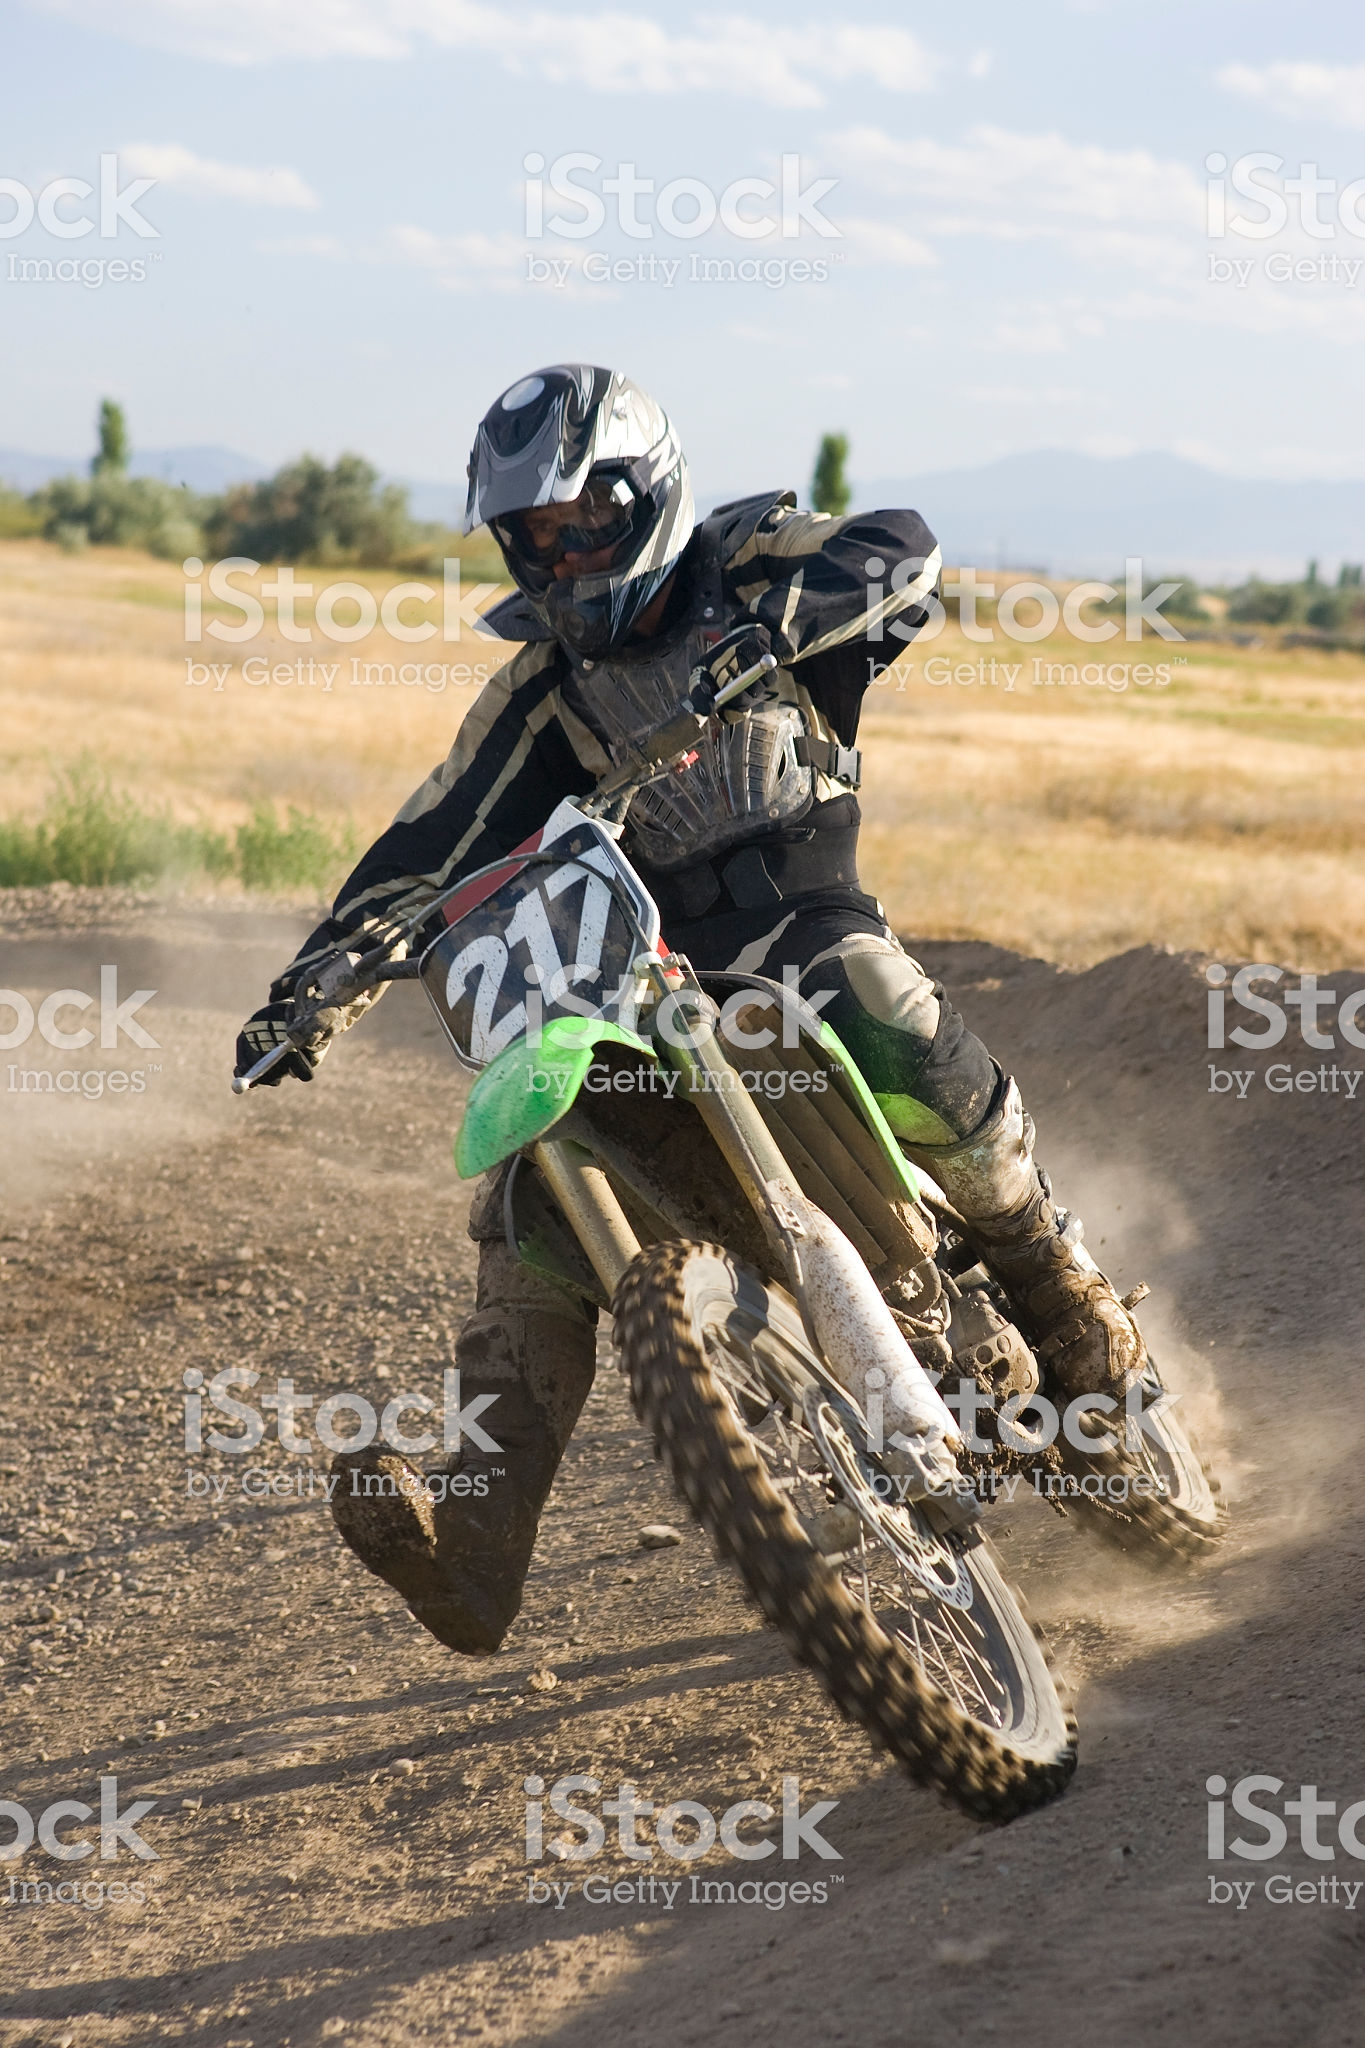helmet: (475, 338, 704, 617)
